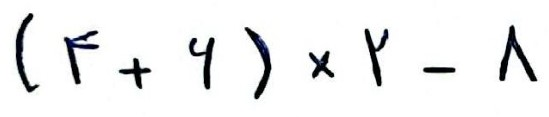character: (498, 24, 540, 82), (243, 26, 272, 101), (63, 29, 100, 85), (15, 13, 36, 96), (364, 28, 391, 86), (188, 37, 216, 91), (119, 57, 152, 91), (308, 51, 335, 82), (425, 67, 467, 80)
